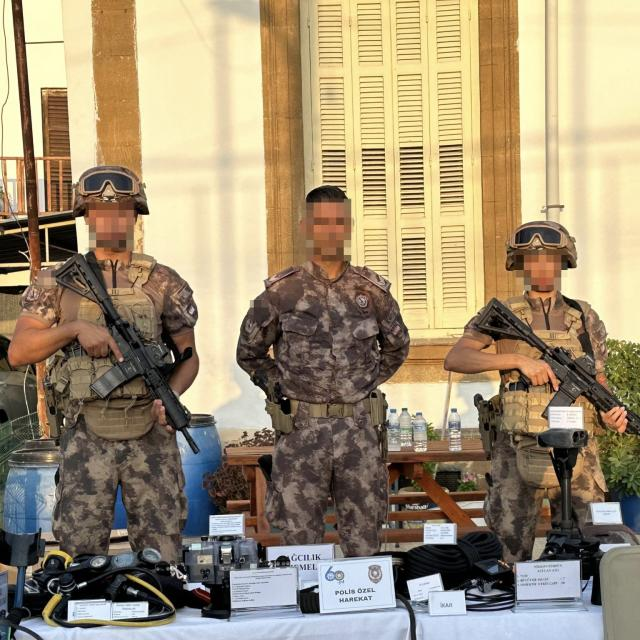poh_personel: (8, 165, 201, 570), (237, 186, 408, 560), (444, 222, 626, 570)
